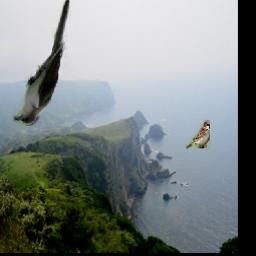Cuckoo: (13, 0, 71, 126)
Sparrow: (186, 120, 210, 148)
